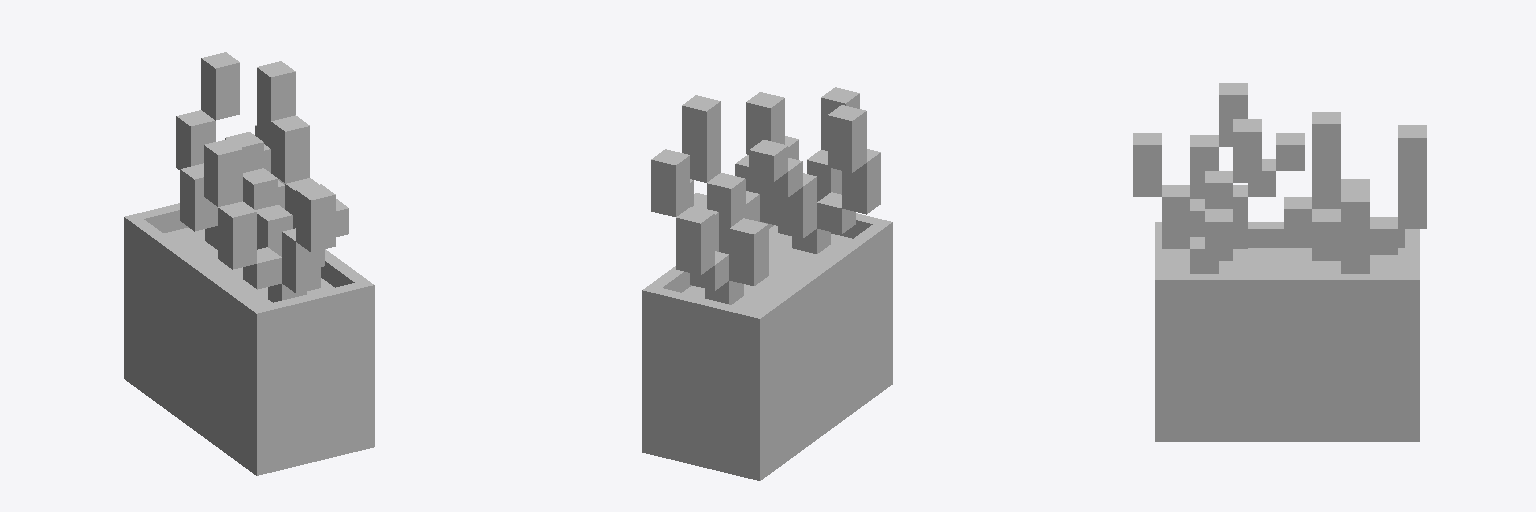
The model's file is Plant.obj.
The picture shows the model from 3 angles: view 1: azimuth 30°, elevation 25°; view 2: azimuth 150°, elevation 25°; view 3: azimuth 270°, elevation 25°; orthographic projection.
Parts seen in each view (by area): view 1: Untitled.003; view 2: Untitled.003; view 3: Untitled.003.
Boxes of the visible parts, x1=… form: Untitled.003: x1=124, y1=52, x2=374, y2=475; Untitled.003: x1=642, y1=87, x2=892, y2=480; Untitled.003: x1=1133, y1=83, x2=1426, y2=441.
Bounding box in the file's own units: 2.2 × 4.9 × 4.1.